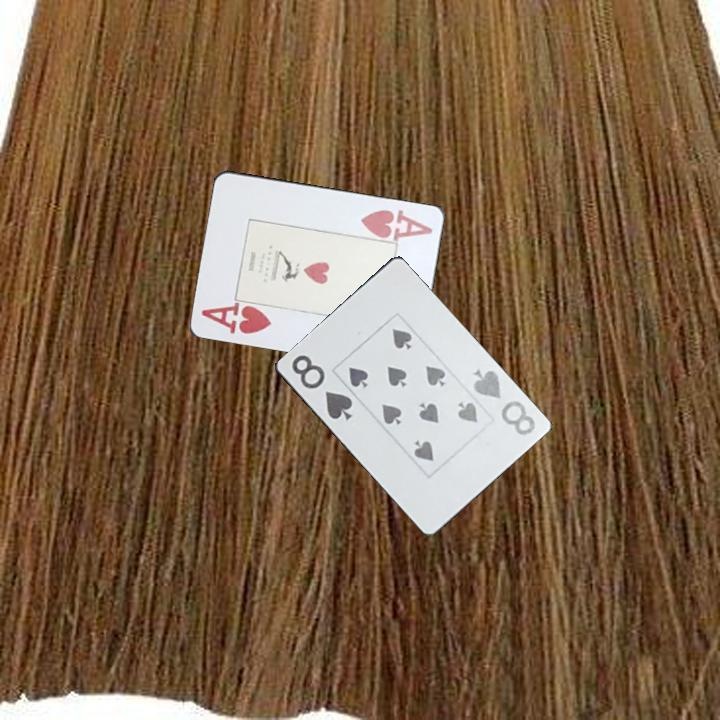8s: (469, 366, 538, 438), (288, 351, 355, 423)
Ah: (198, 300, 275, 337), (357, 206, 436, 242)
